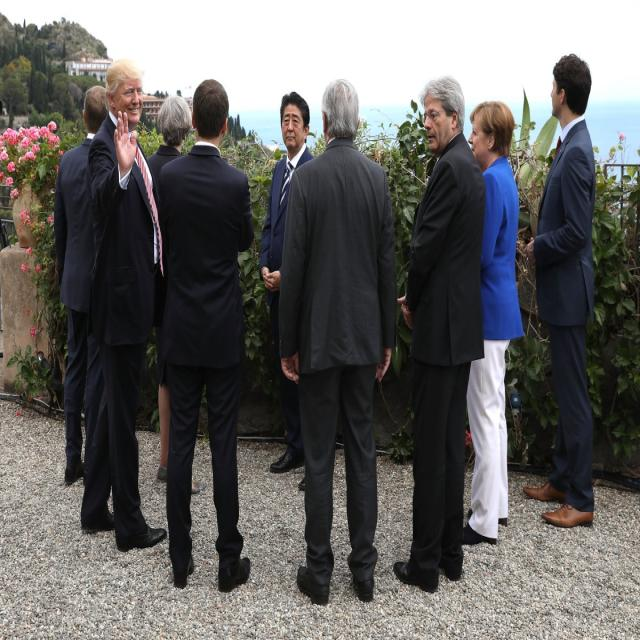body: (275, 73, 398, 610), (156, 76, 253, 595), (390, 75, 487, 594), (76, 56, 168, 554), (522, 49, 599, 532), (460, 99, 526, 548), (52, 83, 110, 489), (146, 92, 203, 494), (259, 90, 313, 492)
